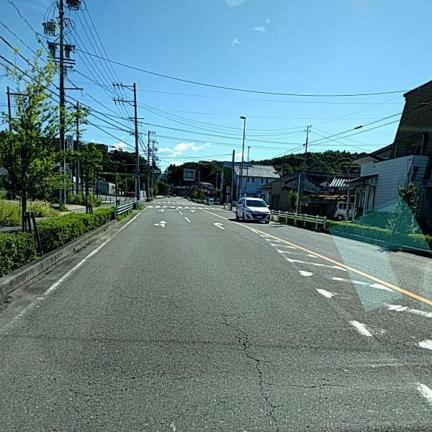Road: (0, 199, 431, 431)
